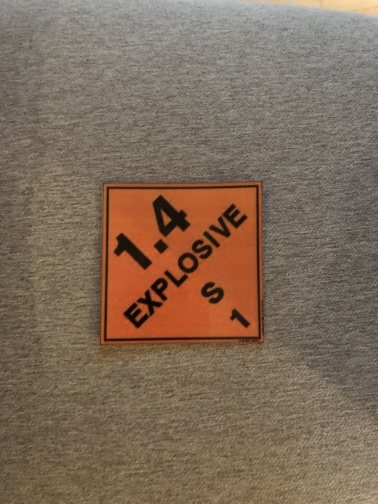Explosive: (102, 184, 261, 340)
